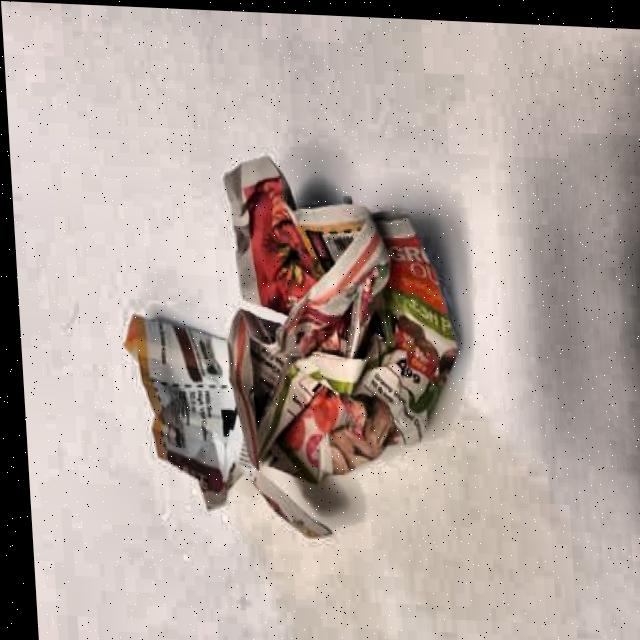paper: (110, 141, 473, 546)
